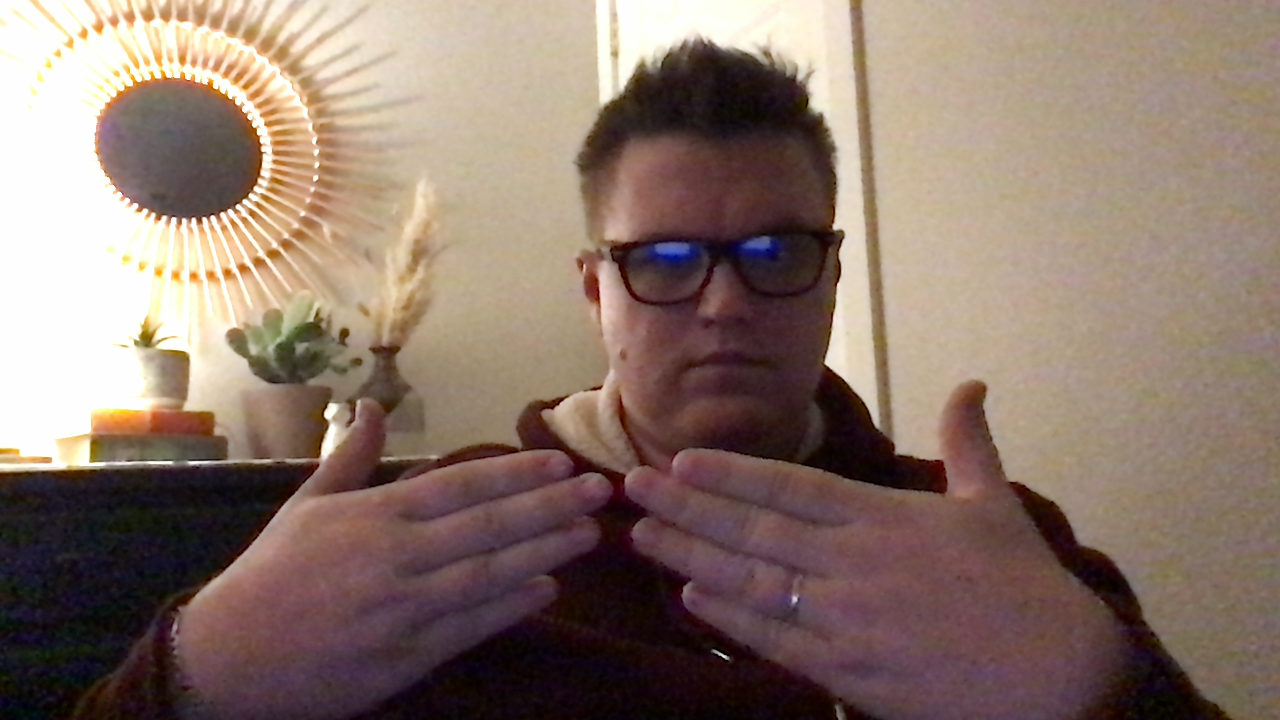thankyou: (155, 377, 1134, 720)
